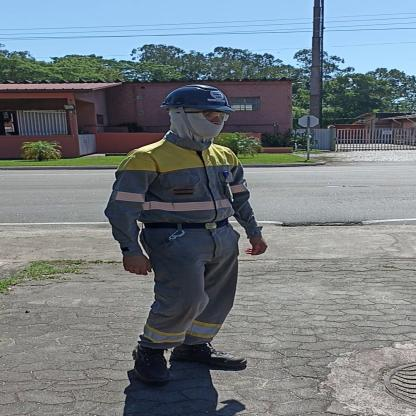Balaclava: (165, 106, 226, 144)
Capacete: (162, 83, 229, 109)
